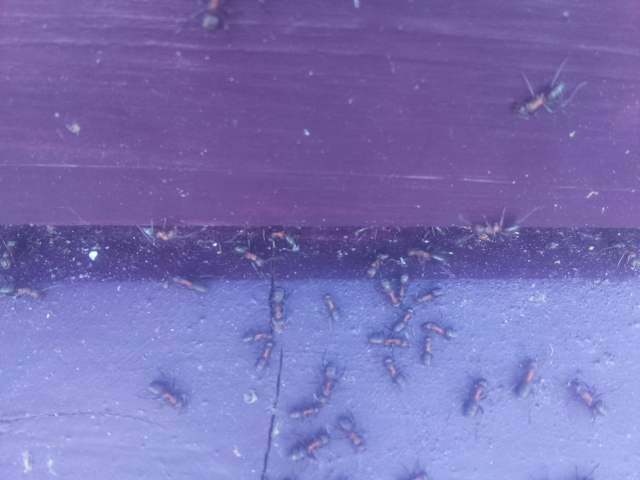ant: (506, 65, 574, 130), (298, 358, 345, 420), (562, 373, 613, 423), (283, 428, 335, 465), (225, 237, 273, 275), (331, 411, 368, 455), (465, 218, 521, 243), (145, 375, 181, 411), (265, 283, 290, 334), (462, 378, 491, 421), (197, 0, 228, 31), (382, 352, 405, 393), (364, 250, 392, 279), (0, 235, 20, 271), (416, 285, 443, 305)
